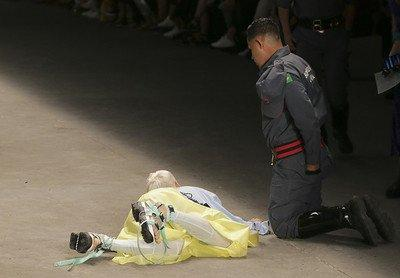bending: (242, 17, 388, 245)
down: (67, 158, 270, 266)
